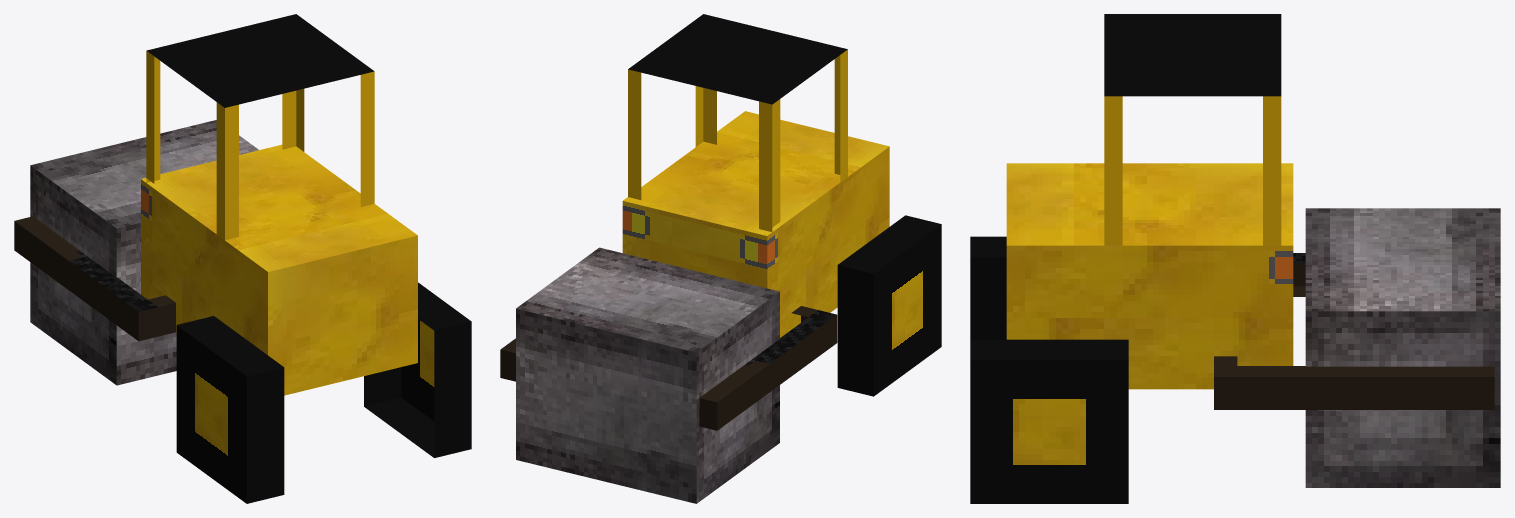
Rendered from steamroller1.glb.
The picture shows the model from 3 angles, left to right: view 1: azimuth 30°, elevation 25°; view 2: azimuth 150°, elevation 25°; view 3: azimuth 270°, elevation 25°; orthographic projection. The views are drawn at different scales.
Visible parts, largest first — view 1: corpo, roda_traseira, rolo_compressor, cabine, braco; view 2: rolo_compressor, corpo, cabine, roda_traseira, braco; view 3: corpo, rolo_compressor, roda_traseira, cabine, braco.
Boxes of the visible parts, x1,y1,x2,y2 form: corpo: [141, 144, 417, 395]; roda_traseira: [176, 282, 471, 503]; rolo_compressor: [30, 120, 258, 385]; cabine: [146, 14, 374, 240]; braco: [14, 216, 175, 341]; rolo_compressor: [516, 247, 779, 503]; corpo: [622, 111, 889, 337]; cabine: [628, 14, 847, 231]; roda_traseira: [837, 215, 941, 396]; braco: [500, 306, 837, 430]; corpo: [1006, 163, 1293, 389]; rolo_compressor: [1305, 208, 1500, 487]; roda_traseira: [970, 236, 1128, 503]; cabine: [1104, 14, 1281, 245]; braco: [1214, 253, 1494, 409].
Size of the model in its own units: 24.74 by 36.08 by 44.85.
